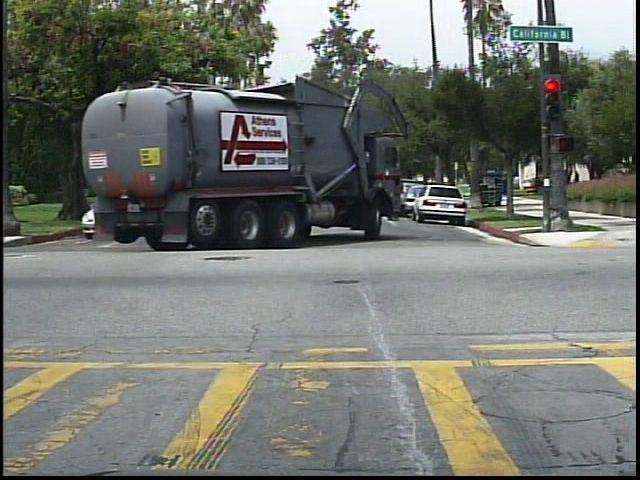person: (568, 165, 586, 195)
